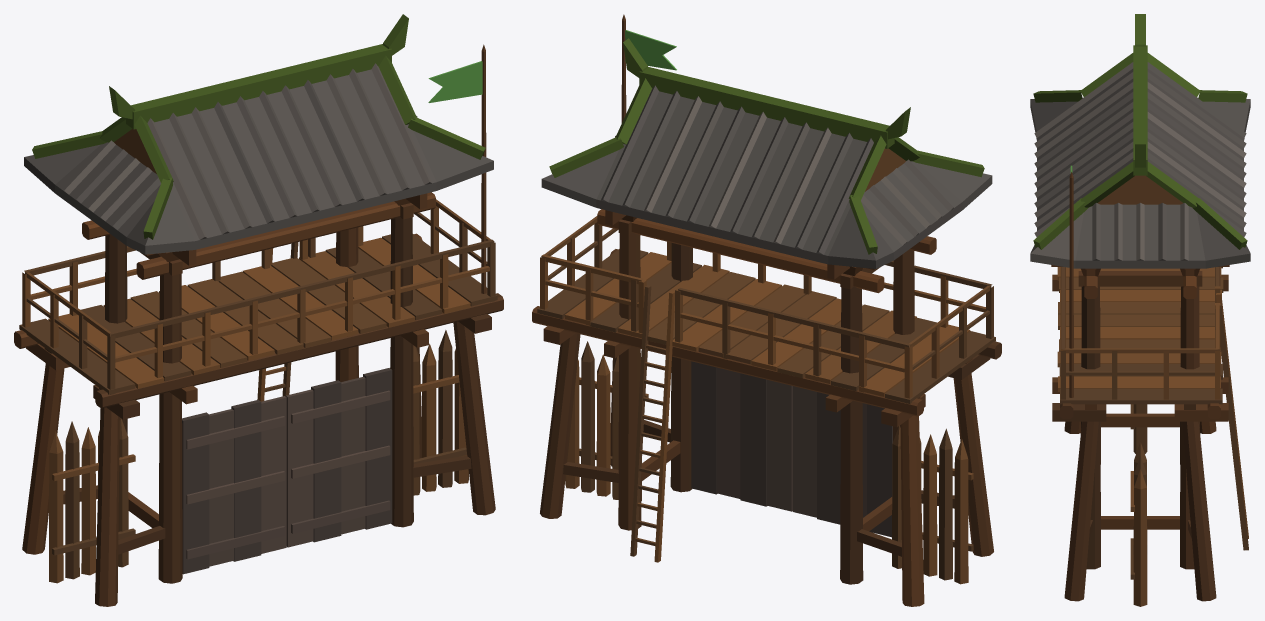
The model's file is camp-gate-2de13f.glb.
3 views of the same model, side by side, from view 1: azimuth 30°, elevation 25°; view 2: azimuth 150°, elevation 25°; view 3: azimuth 270°, elevation 25° (orthographic). The views are drawn at different scales.
Visible parts, largest first — view 1: camp-gate-frame, leaf-r-mesh, leaf-l-mesh, pennant-cloth; view 2: camp-gate-frame, leaf-r-mesh, leaf-l-mesh, pennant-cloth; view 3: camp-gate-frame.
Part boxes in pixels (bbox=[...]): camp-gate-frame: bbox=[14, 14, 503, 606]; leaf-r-mesh: bbox=[285, 368, 392, 547]; leaf-l-mesh: bbox=[182, 396, 286, 574]; pennant-cloth: bbox=[428, 61, 482, 102]; camp-gate-frame: bbox=[532, 14, 1001, 606]; leaf-r-mesh: bbox=[691, 361, 792, 511]; leaf-l-mesh: bbox=[792, 386, 892, 537]; pennant-cloth: bbox=[625, 30, 676, 70]; camp-gate-frame: bbox=[1030, 14, 1250, 606].
Size of the model in its own units: 8 by 8.7 by 4.
